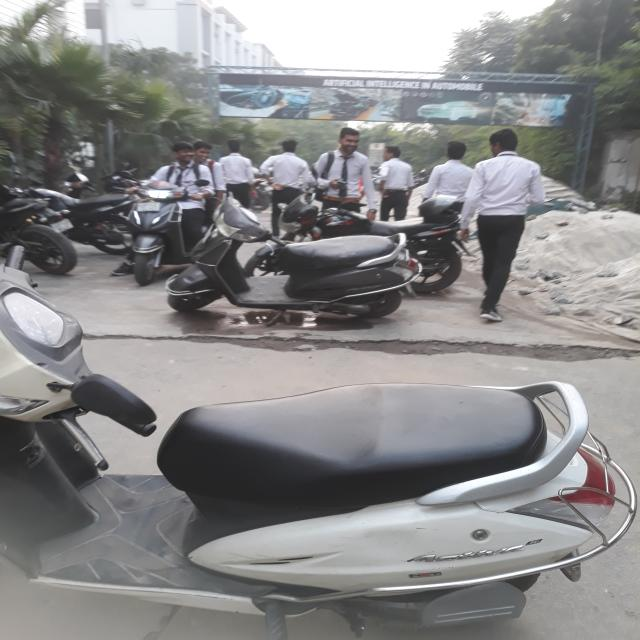unsafe: (475, 128, 537, 320), (316, 126, 377, 212), (260, 136, 312, 202), (160, 142, 205, 214), (374, 146, 418, 216), (430, 140, 470, 205), (221, 137, 255, 197)
